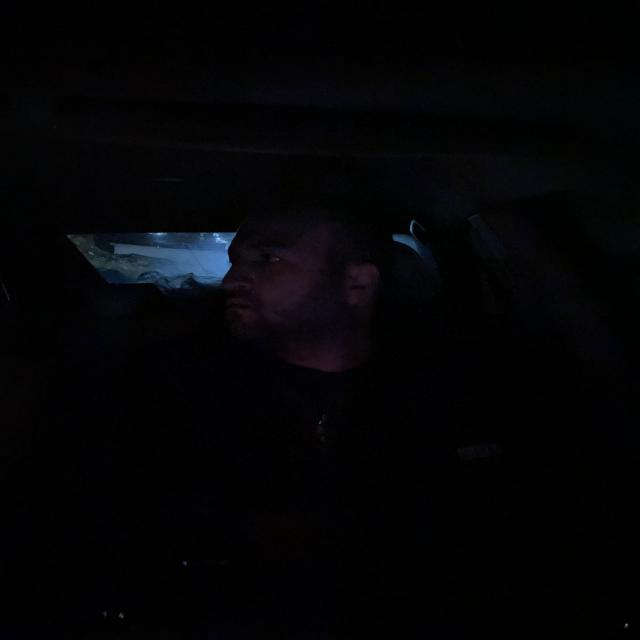LeftRight: (203, 189, 416, 367)
